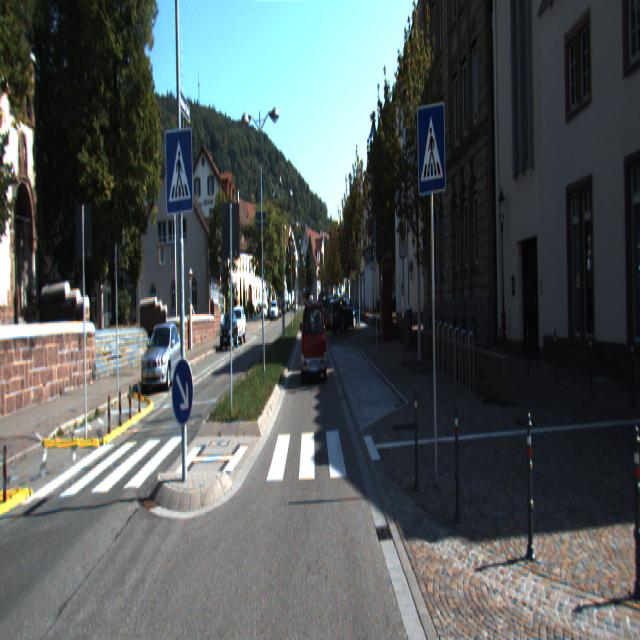Car: (141, 325, 185, 394), (302, 304, 328, 384), (331, 297, 358, 336), (325, 299, 351, 329), (220, 312, 239, 350), (229, 309, 247, 346)
